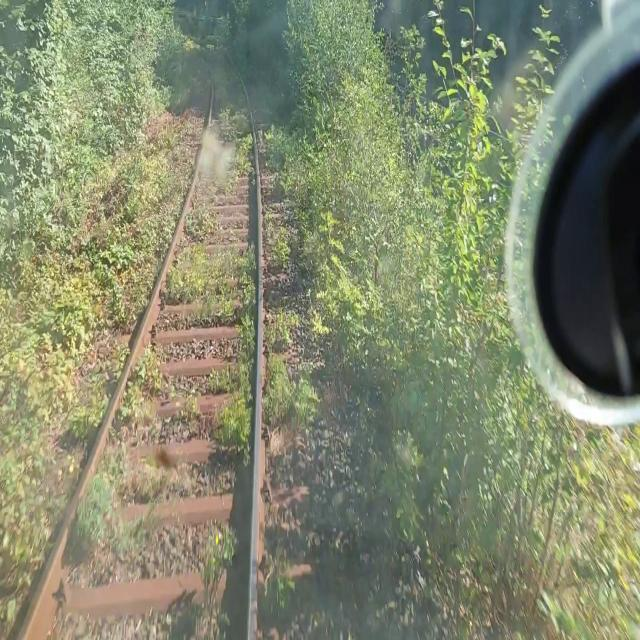Plant: (0, 112, 199, 631), (164, 239, 256, 449), (261, 121, 339, 321), (187, 524, 237, 635), (118, 344, 163, 430), (214, 101, 253, 194), (265, 352, 313, 427), (73, 476, 116, 545), (68, 366, 103, 439), (119, 505, 156, 564), (265, 297, 296, 350), (267, 556, 290, 609), (185, 204, 215, 236), (102, 441, 126, 478), (184, 391, 205, 423), (273, 228, 288, 264), (112, 341, 127, 377), (311, 308, 327, 336)
